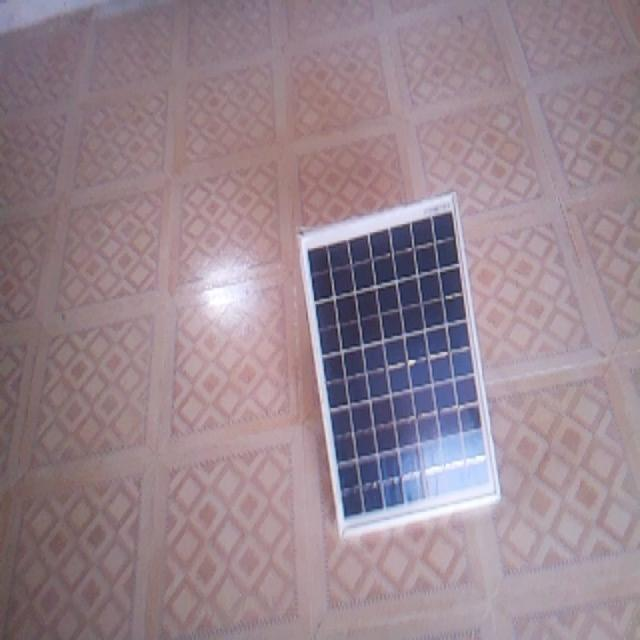Normal Solar Panel: (300, 192, 501, 537)
